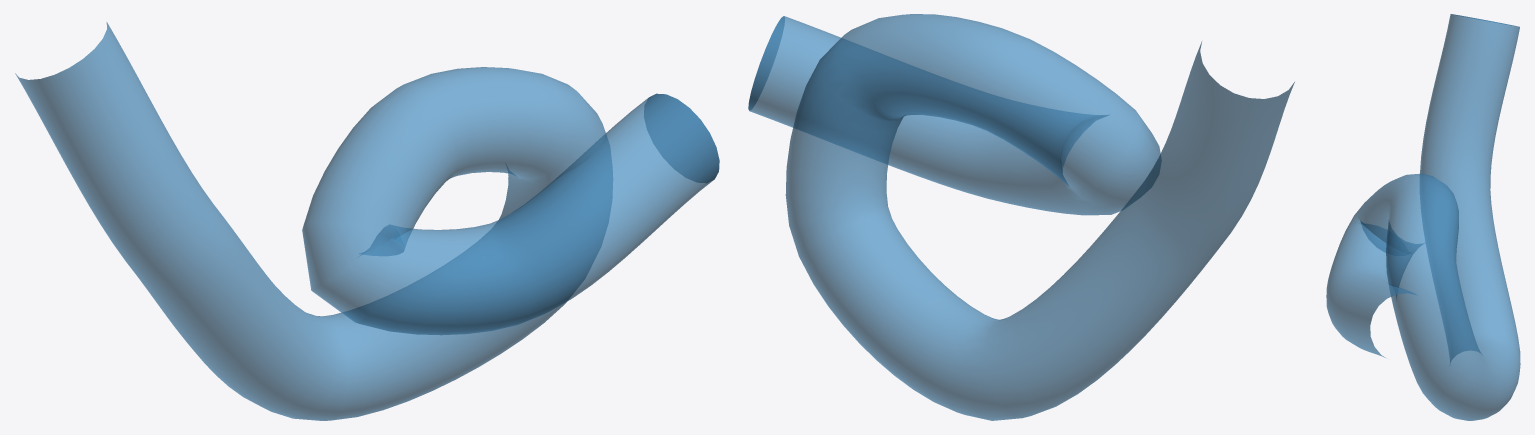
3 views of the same model, side by side, from view 1: azimuth 30°, elevation 25°; view 2: azimuth 150°, elevation 25°; view 3: azimuth 270°, elevation 25° (orthographic). The views are drawn at different scales.
Parts seen in each view (by area): view 1: viscous-ribbon; view 2: viscous-ribbon; view 3: viscous-ribbon.
Part boxes in pixels (left/top/right/bottom): viscous-ribbon: left=15, top=22, right=719, bottom=420; viscous-ribbon: left=748, top=14, right=1294, bottom=420; viscous-ribbon: left=1326, top=14, right=1520, bottom=420.
Size of the model in its own units: 1.9 by 1.34 by 0.7672.
